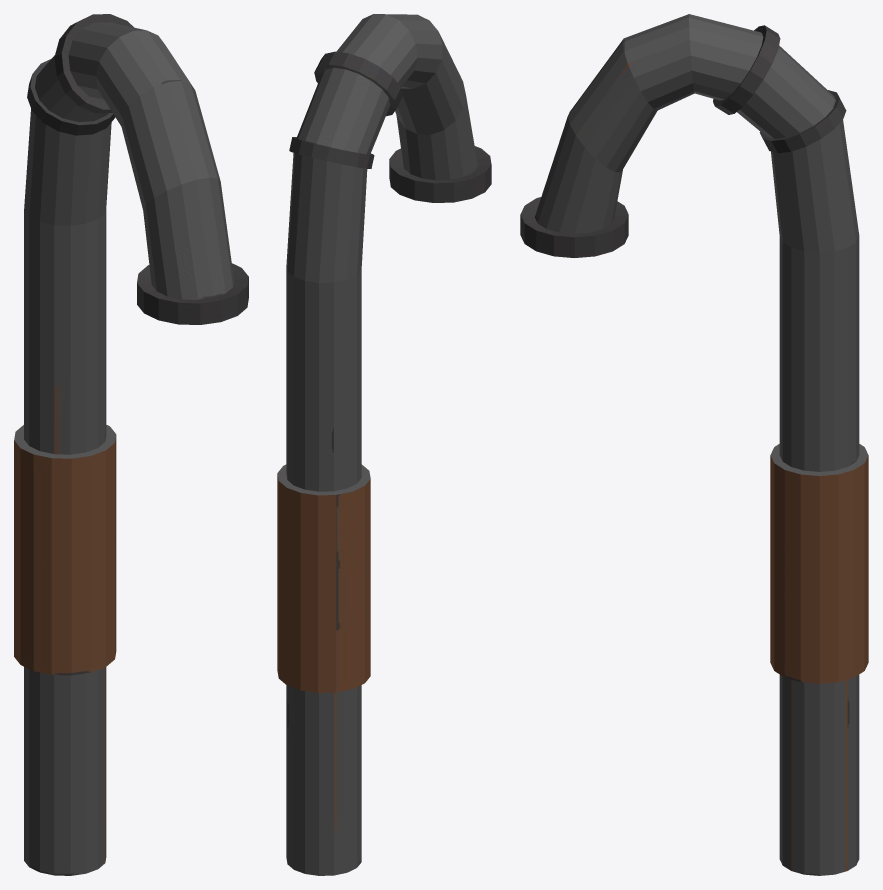
File: pipe.fbx
3 views of the same model, side by side, from view 1: azimuth 30°, elevation 25°; view 2: azimuth 150°, elevation 25°; view 3: azimuth 270°, elevation 25° (orthographic). The views are drawn at different scales.
Parts seen in each view (by area): view 1: Cylinder; view 2: Cylinder; view 3: Cylinder.
Boxes of the visible parts, bbox=[...] form: Cylinder: bbox=[14, 14, 248, 875]; Cylinder: bbox=[277, 14, 491, 875]; Cylinder: bbox=[520, 14, 868, 875].
Bounding box in the file's own units: 21.5 × 184 × 69.13.
1 material, 1 textured.
